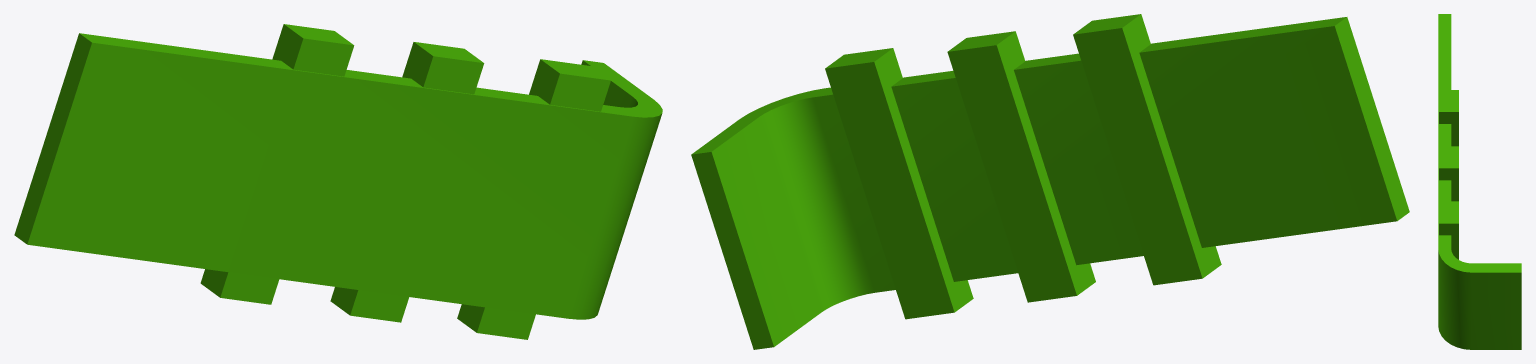
File: Clip.fbx
3 renders of one model, left to right at view 1: azimuth 30°, elevation 25°; view 2: azimuth 150°, elevation 25°; view 3: azimuth 270°, elevation 25°, orthographic. The views are drawn at different scales.
Parts seen in each view (by area): view 1: Защелка; view 2: Защелка; view 3: Защелка.
Boxes of the visible parts, bbox=[...] form: Защелка: bbox=[14, 24, 662, 339]; Защелка: bbox=[691, 14, 1409, 349]; Защелка: bbox=[1438, 14, 1521, 349].
Bounding box in the file's own units: 13.19 × 7.88 × 2.89.
